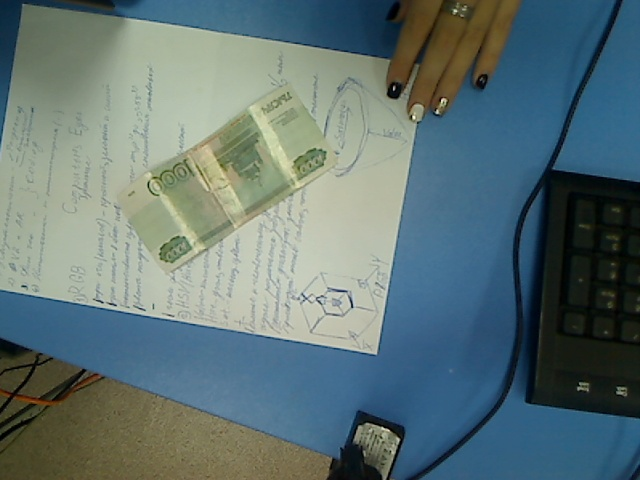banknotes: (114, 82, 341, 279)
